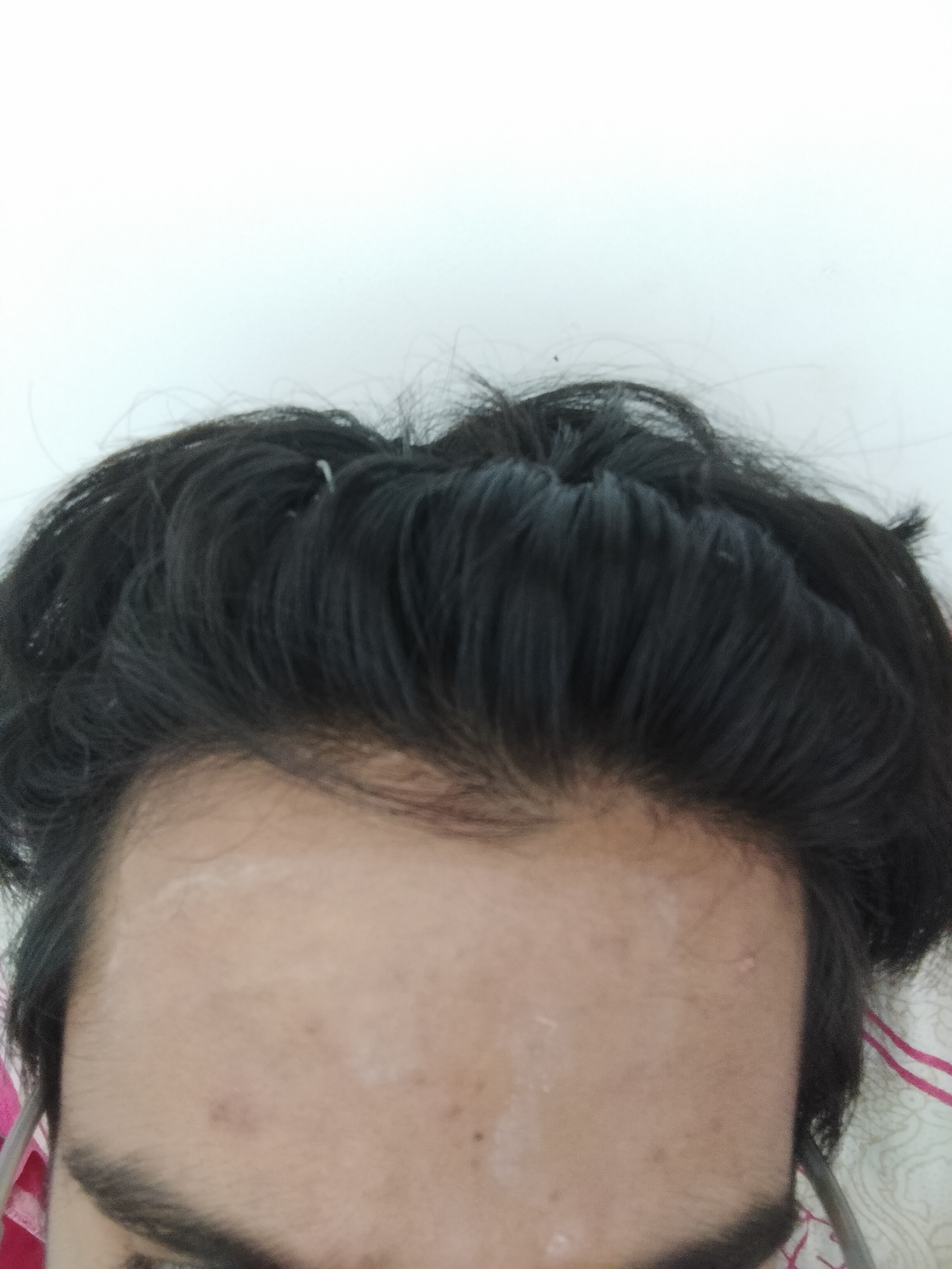cyst: (735, 959, 759, 976)
